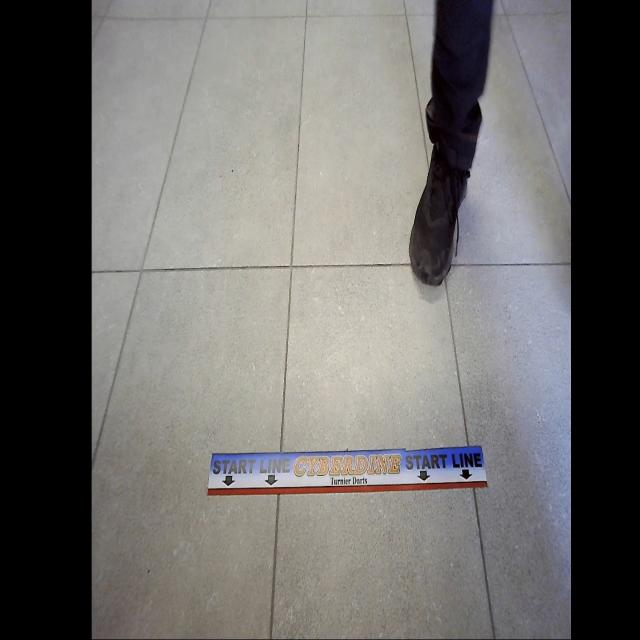foot: (408, 144, 469, 286)
